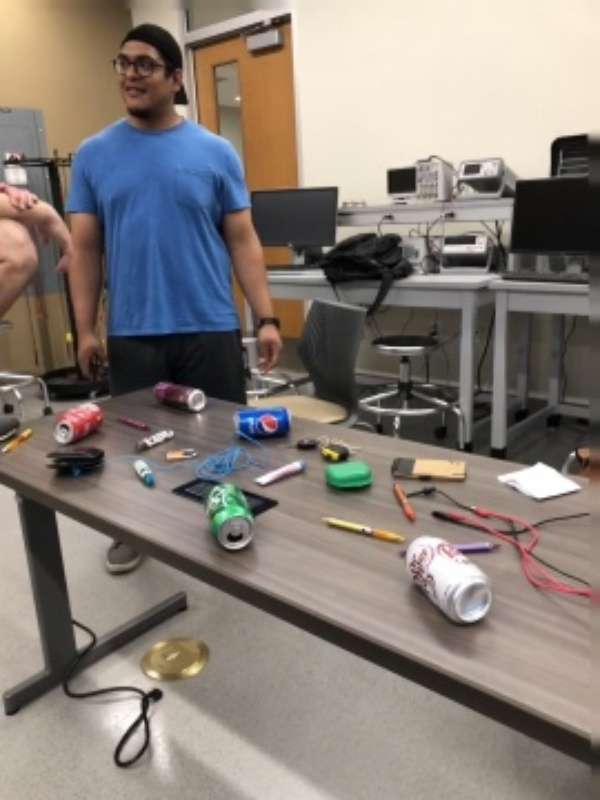can: (401, 532, 494, 627), (205, 478, 260, 555), (230, 401, 297, 442), (148, 372, 211, 414), (52, 400, 108, 444)
